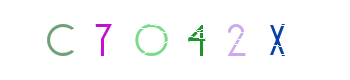2: (158, 0, 238, 80)
4: (157, 0, 237, 80)
7: (76, 0, 156, 80)
C: (63, 0, 143, 80)
O: (135, 0, 215, 80)
X: (237, 0, 317, 80)
